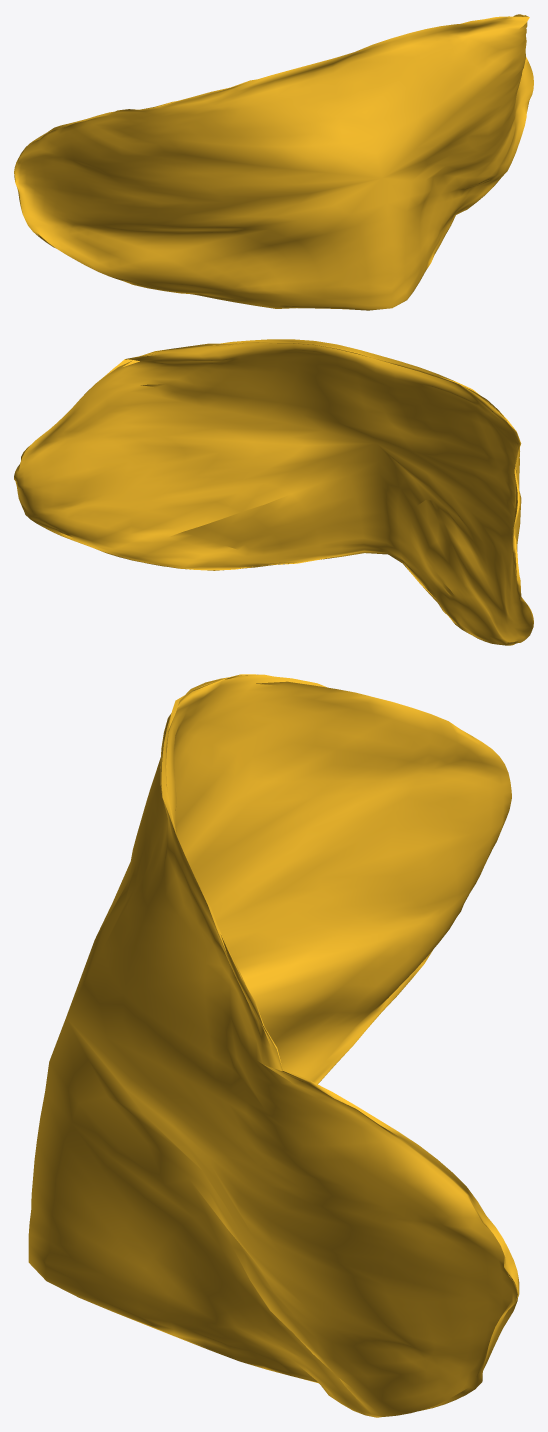
File: blindfold.glb
3 renders of one model, top to bottom at view 1: azimuth 30°, elevation 25°; view 2: azimuth 150°, elevation 25°; view 3: azimuth 270°, elevation 25°, orthographic. The views are drawn at different scales.
Parts seen in each view (by area): view 1: Extrude.001; view 2: Extrude.001; view 3: Extrude.001.
Part boxes in pixels (x1=…): Extrude.001: x1=14, y1=14, x2=533, y2=310; Extrude.001: x1=14, y1=339, x2=533, y2=645; Extrude.001: x1=28, y1=674, x2=519, y2=1417.
Size of the model in its own units: 16.77 by 7.41 by 6.97.
